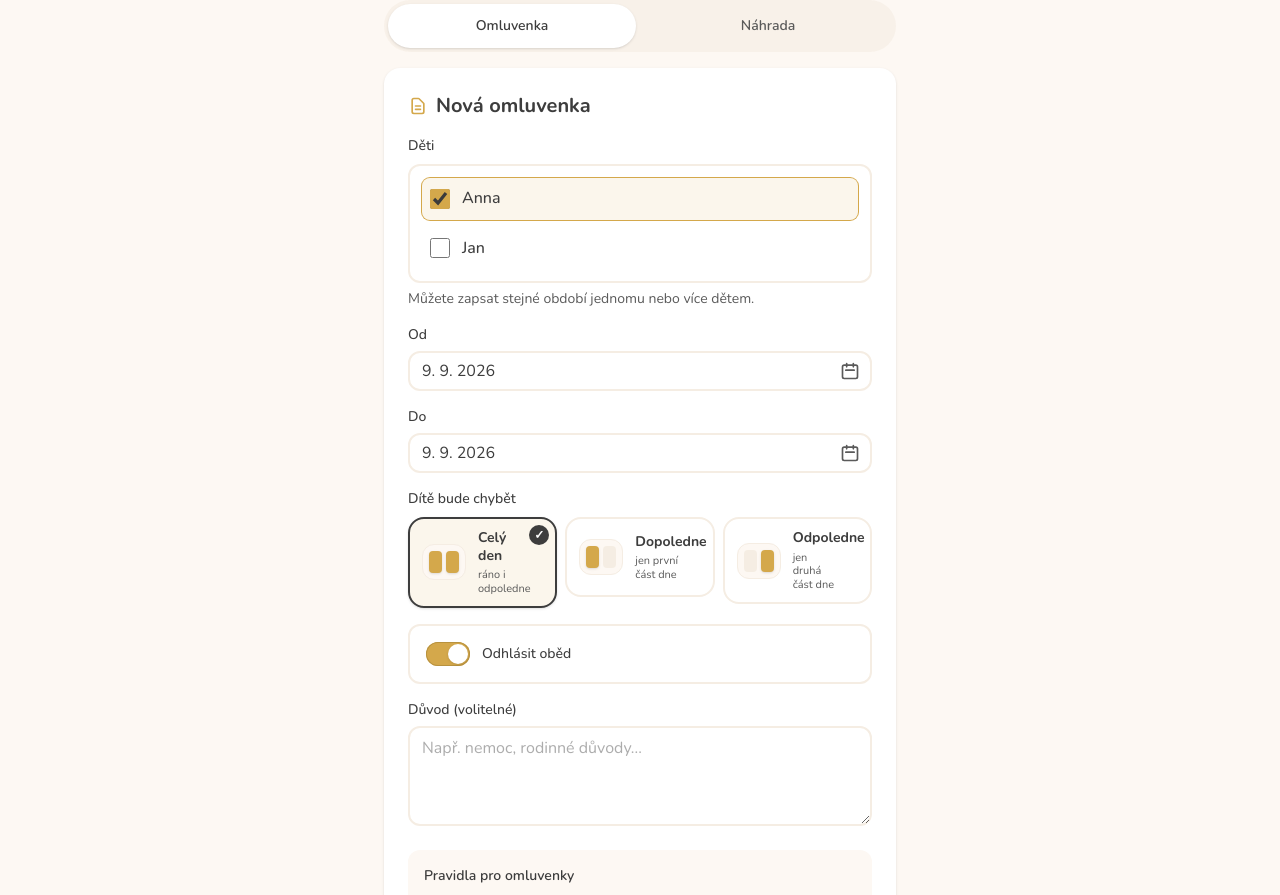
it: NewExcusePage › keeps only dates valid for all selected children
This screenshot has width=1280, height=895.
Click the checkbox labelled "Jan". click: (440, 248)
box: [430,238,450,258]
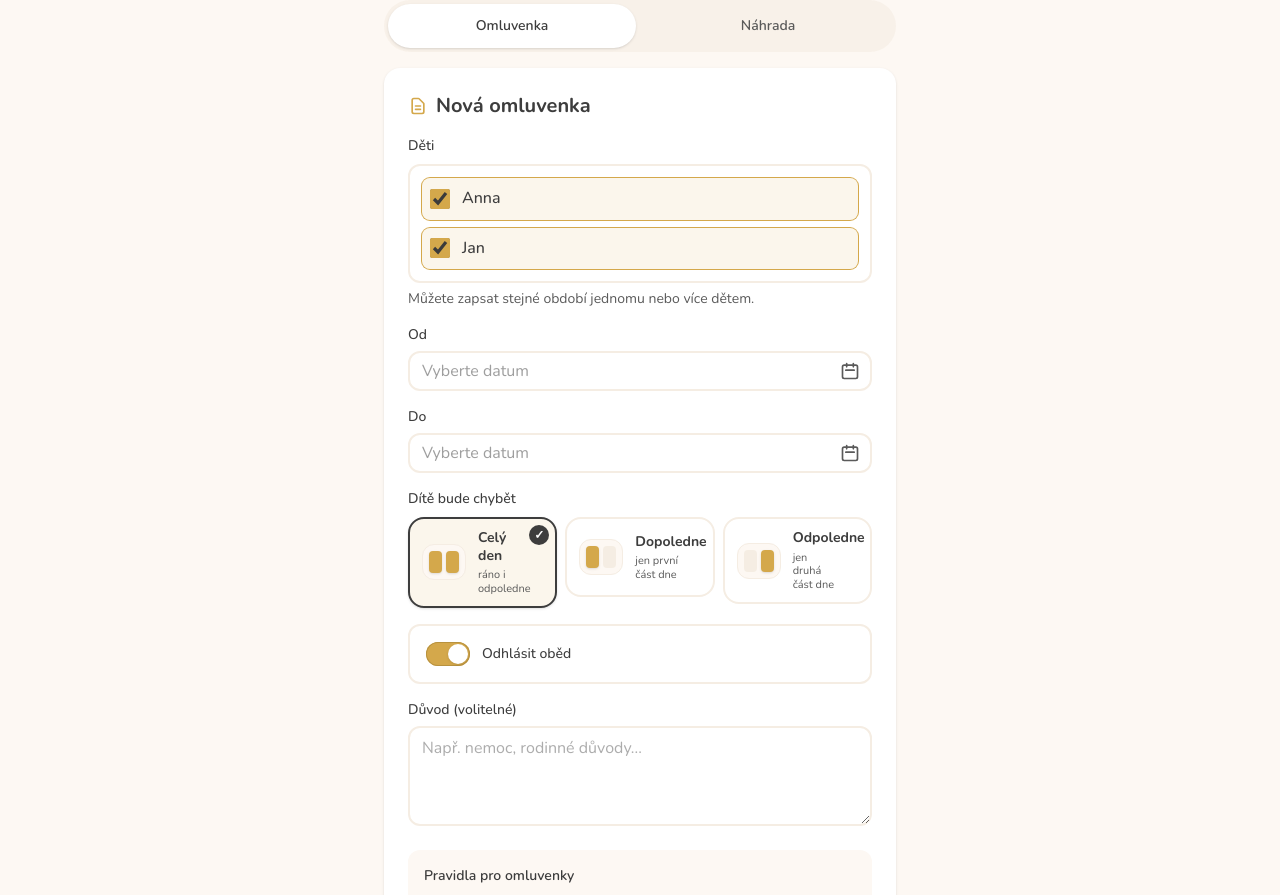
expect the dropdown labelled "Od" is empty: met
expect the dropdown labelled "Do" is empty: met, box [408,433,872,473]
Click the dropdown labelled "Od". click: (640, 371)
box: [408,351,872,391]
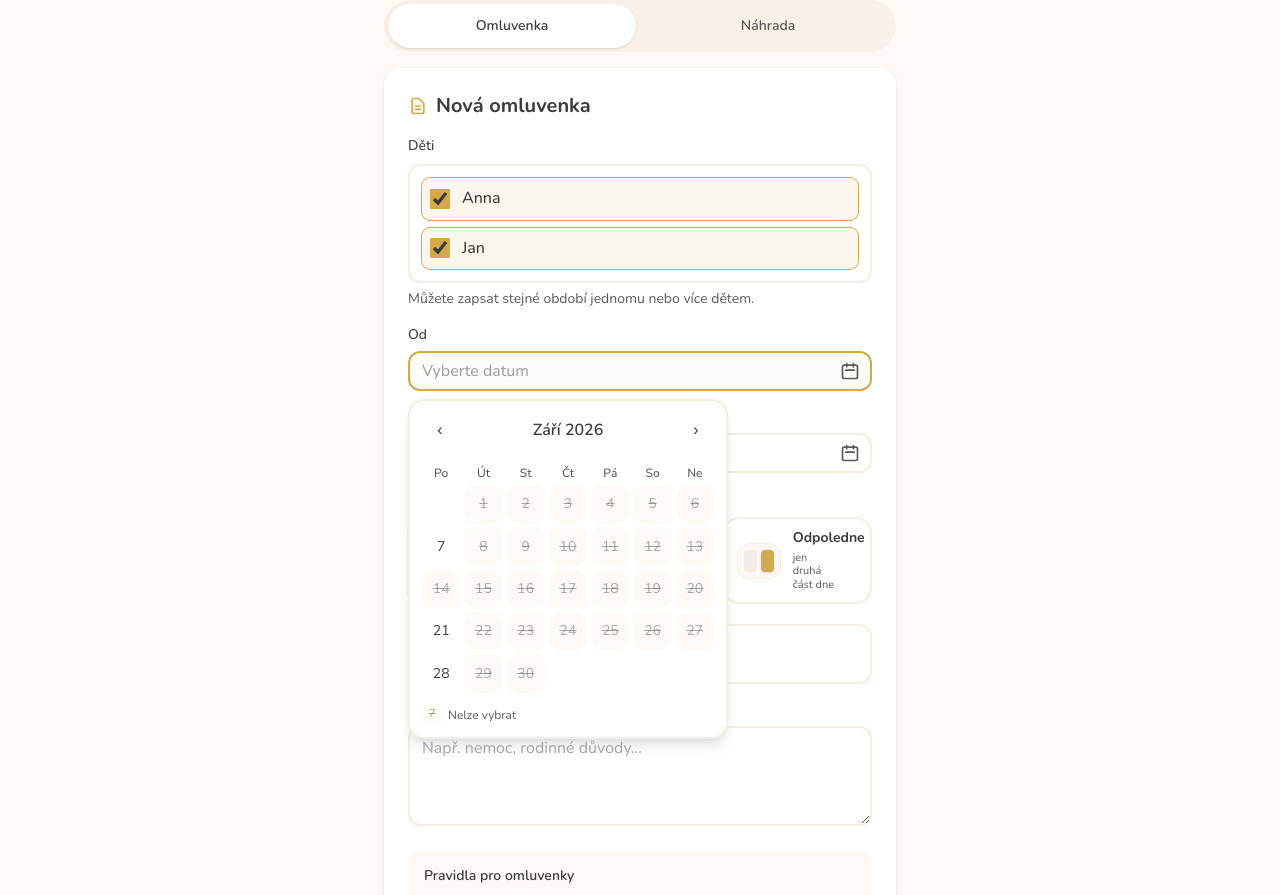
expect the button named "středa 9. září 2026" is disabled: met, box [507,528,545,566]
expect the button named "pondělí 7. září 2026" is enabled: met, box [422,528,460,566]
